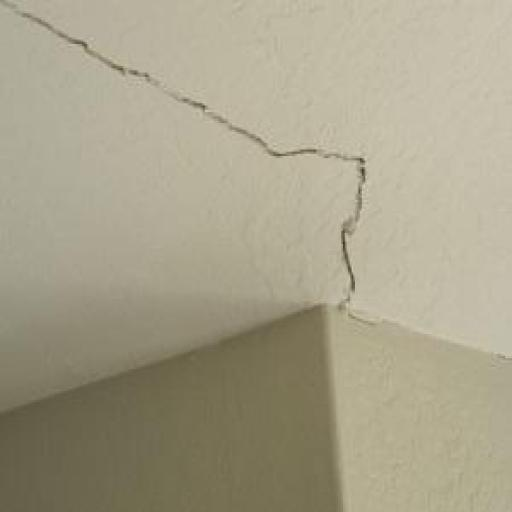spalling: (21, 9, 372, 306)
